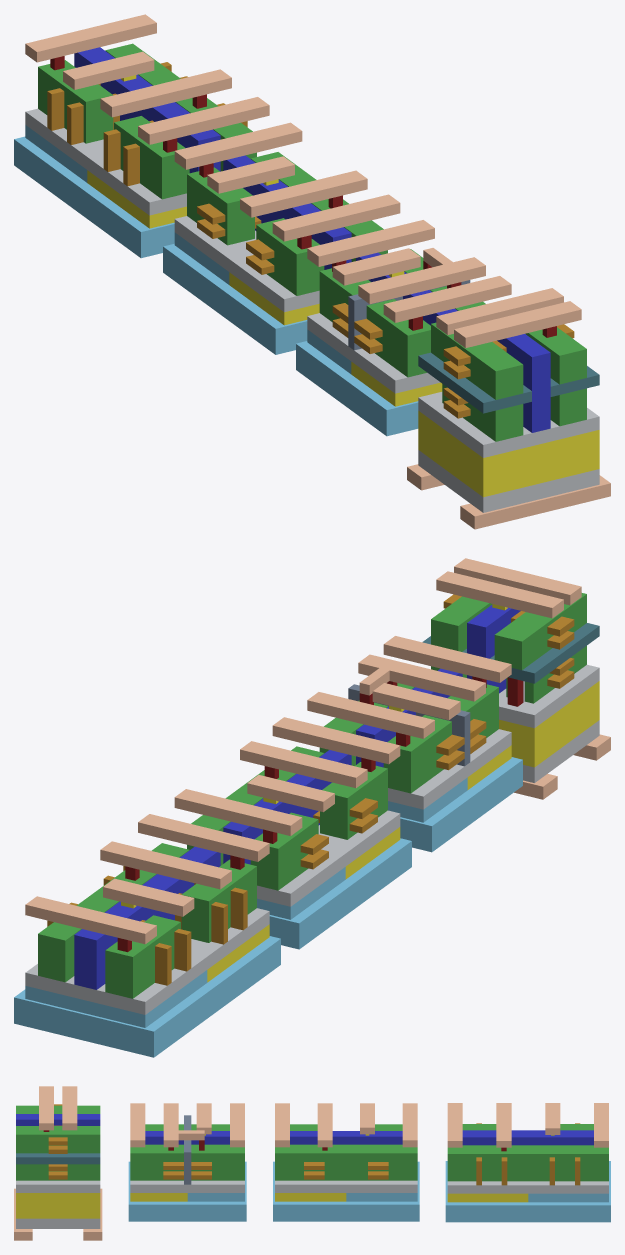
Rendered from show_cmp.obj.
3 views of the same model, one above another, from view 1: azimuth 30°, elevation 25°; view 2: azimuth 150°, elevation 25°; view 3: azimuth 270°, elevation 25° (orthographic). The views are drawn at different scales.
Visible parts, largest first — view 1: show_cfet_nwell, show_fin_pwell, show_ns_pwell, show_fs_pwell, show_cfet_fox, show_ns_fox, show_fin_fox, show_cfet_md_gnd, show_cfet_bild, show_fin_md_vdd, show_fin_m0_out, show_fin_m0_gnd (+38 smaller); view 2: show_fin_pwell, show_ns_pwell, show_fin_fox, show_fs_pwell, show_fin_po, show_cfet_nwell, show_ns_fox, show_fin_md_gnd, show_fin_md_out, show_cfet_md_gnd, show_fin_m0_gnd, show_fin_m0_out (+38 smaller); view 3: show_fin_md_out, show_ns_md_out, show_fin_pwell, show_ns_pwell, show_fs_md_out, show_fs_pwell, show_cfet_nwell, show_fin_fox, show_cfet_md_outt, show_ns_fox, show_fin_po, show_fs_fox (+34 smaller).
Boxes of the visible parts, left/top/right/bottom form: show_cfet_nwell: left=418, top=411, right=599, bottom=497; show_fin_pwell: left=14, top=136, right=174, bottom=258; show_ns_pwell: left=163, top=243, right=307, bottom=354; show_fs_pwell: left=296, top=341, right=418, bottom=436; show_cfet_fox: left=418, top=392, right=599, bottom=457; show_ns_fox: left=174, top=216, right=319, bottom=312; show_fin_fox: left=25, top=108, right=186, bottom=215; show_cfet_md_gnd: left=431, top=322, right=523, bottom=399; show_cfet_bild: left=418, top=450, right=599, bottom=512; show_fin_md_vdd: left=114, top=116, right=189, bottom=199; show_fin_m0_out: left=100, top=69, right=231, bottom=117; show_fin_m0_gnd: left=25, top=14, right=156, bottom=62; show_fin_pwell: left=14, top=936, right=280, bottom=1057; show_ns_pwell: left=269, top=838, right=411, bottom=949; show_fin_fox: left=25, top=908, right=269, bottom=1014; show_fs_pwell: left=400, top=757, right=522, bottom=852; show_fin_po: left=74, top=846, right=220, bottom=989; show_cfet_nwell: left=499, top=681, right=599, bottom=767; show_ns_fox: left=257, top=810, right=400, bottom=906; show_fin_md_gnd: left=105, top=915, right=180, bottom=998; show_fin_md_out: left=38, top=843, right=189, bottom=982; show_cfet_md_gnd: left=494, top=593, right=586, bottom=670; show_fin_m0_gnd: left=25, top=896, right=156, bottom=944; show_fin_m0_out: left=100, top=841, right=231, bottom=889; show_fin_md_out: left=447, top=1145, right=608, bottom=1181; show_ns_md_out: left=275, top=1144, right=417, bottom=1180; show_fin_pwell: left=445, top=1161, right=610, bottom=1222; show_ns_pwell: left=273, top=1161, right=419, bottom=1221; show_fs_md_out: left=130, top=1144, right=244, bottom=1180; show_fs_pwell: left=128, top=1161, right=246, bottom=1221; show_cfet_nwell: left=16, top=1193, right=100, bottom=1218; show_fin_fox: left=447, top=1181, right=608, bottom=1193; show_cfet_md_outt: left=16, top=1126, right=100, bottom=1153; show_ns_fox: left=275, top=1180, right=417, bottom=1192; show_fin_po: left=462, top=1130, right=593, bottom=1145; show_fs_fox: left=130, top=1180, right=244, bottom=1192.
Size of the model in its own units: 112 by 134 by 636.
